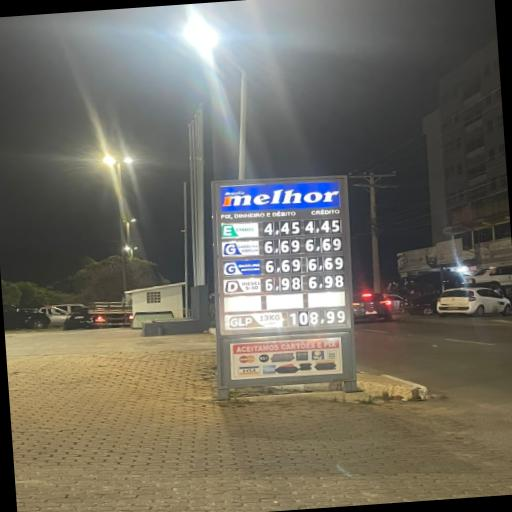ETANOL: (219, 222, 260, 239)
GASOLINA AD: (222, 260, 262, 276)
GASOLINA C: (221, 239, 260, 257)
S10: (224, 277, 261, 294)
placa: (211, 178, 347, 297)
preco: (264, 274, 302, 293), (264, 237, 302, 255), (262, 220, 300, 236), (265, 257, 302, 273)
